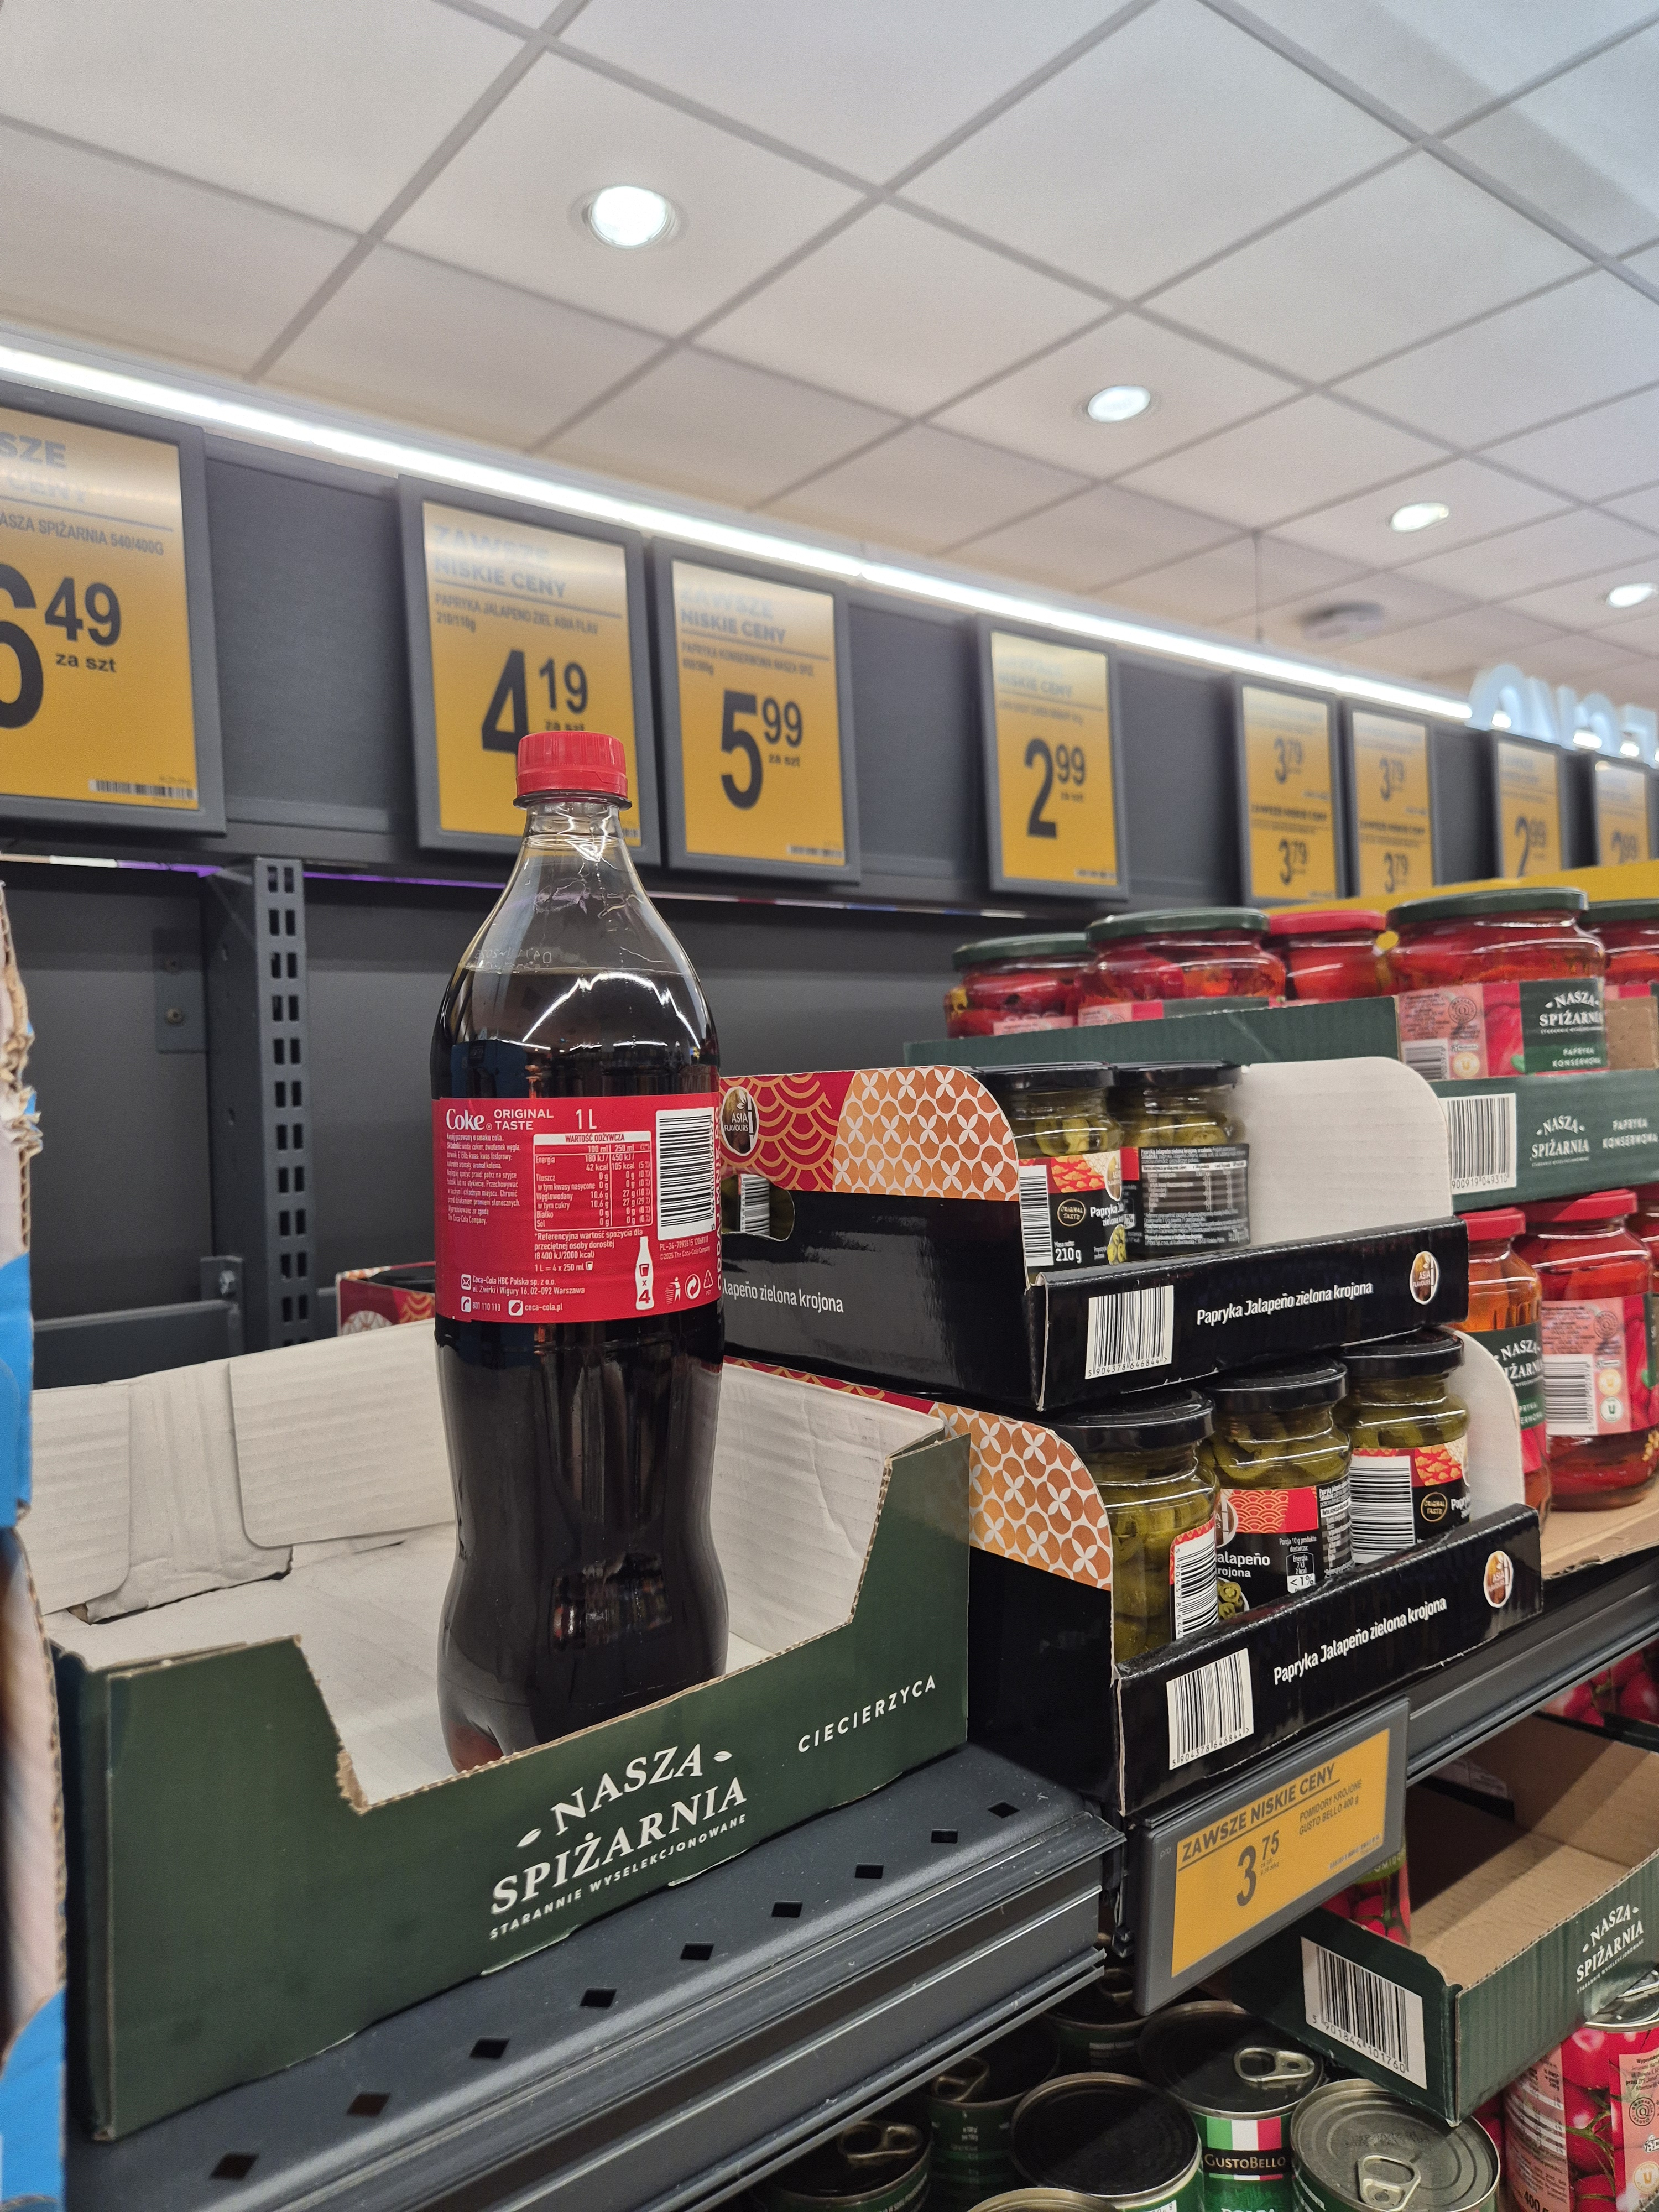Coca Cola: (427, 728, 765, 1766)
